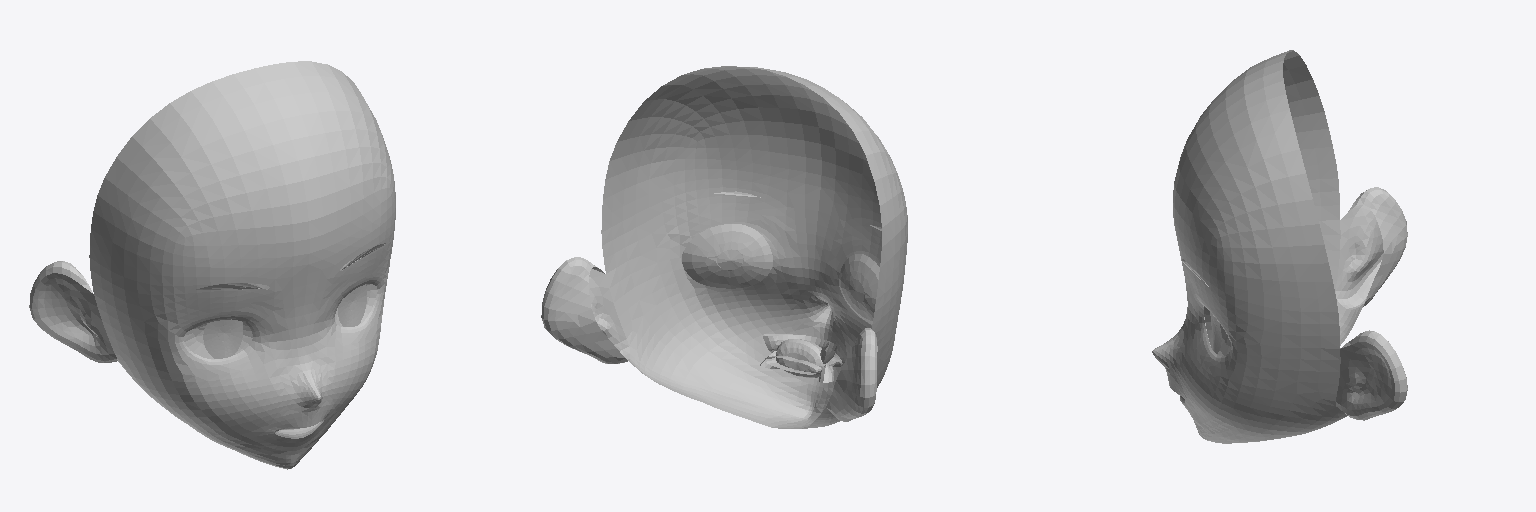
Rendered from jawRight.obj.
3 renders of one model, left to right at view 1: azimuth 30°, elevation 25°; view 2: azimuth 150°, elevation 25°; view 3: azimuth 270°, elevation 25°, orthographic.
Visible parts, largest first — view 1: Face; view 2: Face; view 3: Face.
Part boxes in pixels (x1,y1,x2,y2): Face: (29, 61, 395, 469); Face: (541, 66, 907, 428); Face: (1152, 50, 1407, 443).
Bounding box in the file's own units: 0.2176 × 0.2333 × 0.1449.